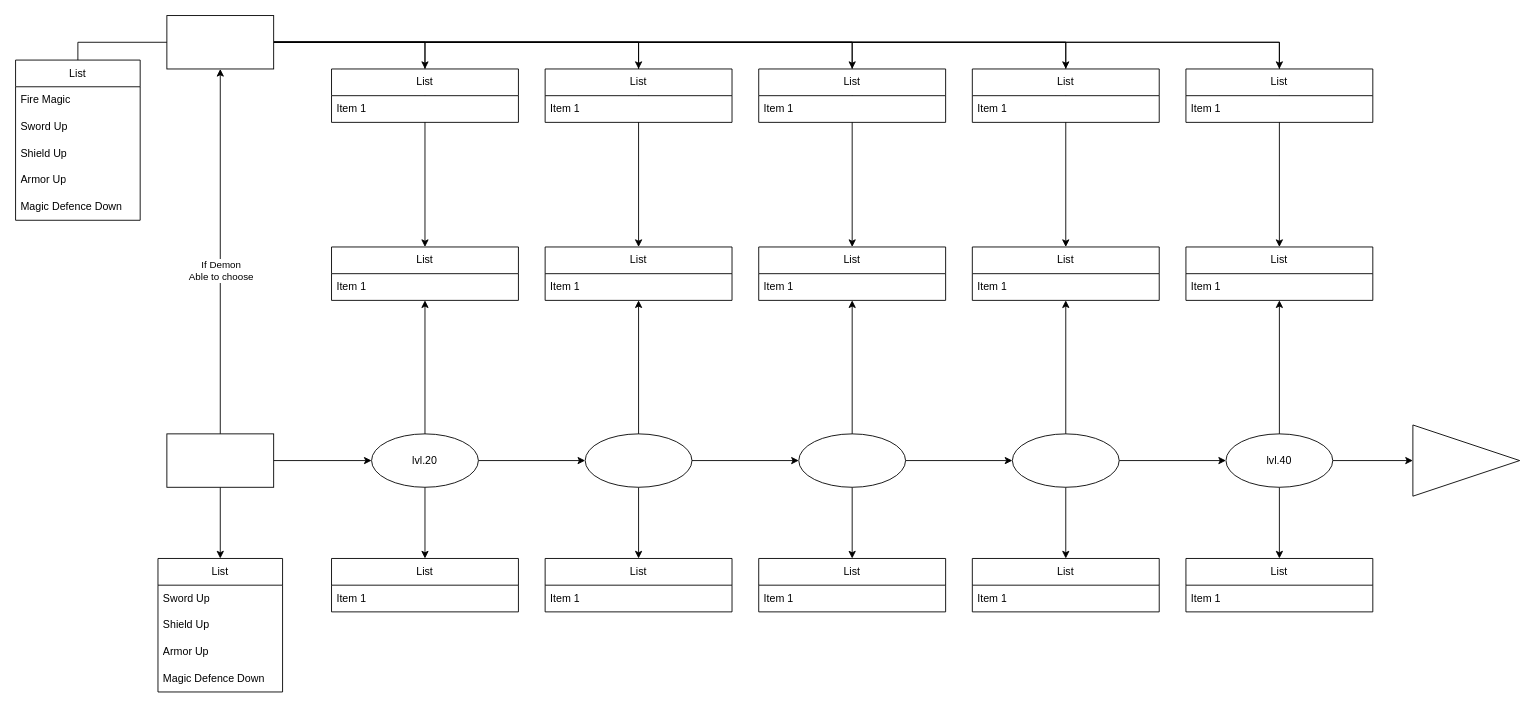
The diagram is 1535 pixels wide and 708 high, and some of its shapes have lost their labels. Here are the shapes that lost their labels. From the top down, the centre of each, then its label:
At (220,42): "Demon Knight".
At (220,460): "Knight".
At (638,460): "lvl.25".
At (852,460): "lvl.30".
At (1065,460): "lvl. 35".
At (1466,460): "Class Advancement".
